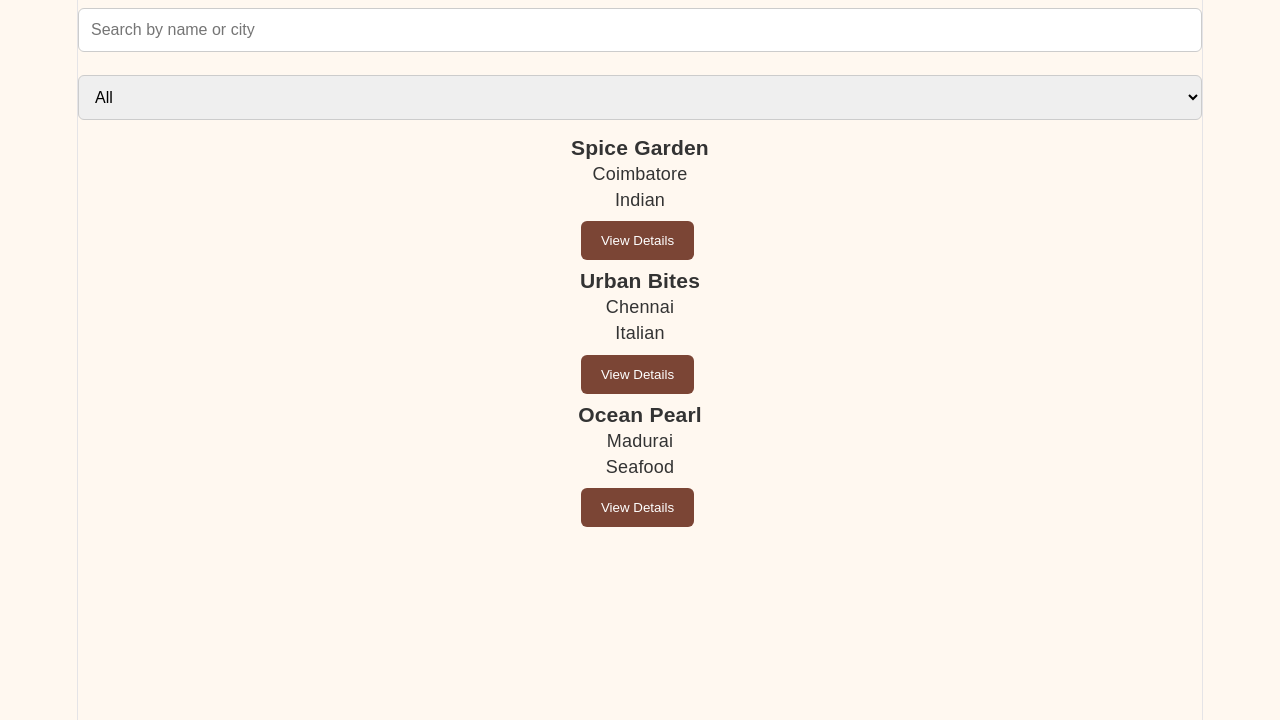
Test case: Experiment 1: Restaurant Reservation Testing › b) Search restaurants by name
Type "Spice" into the field named "Search restaurants" at (640, 30), box left=78, top=8, right=1202, bottom=52
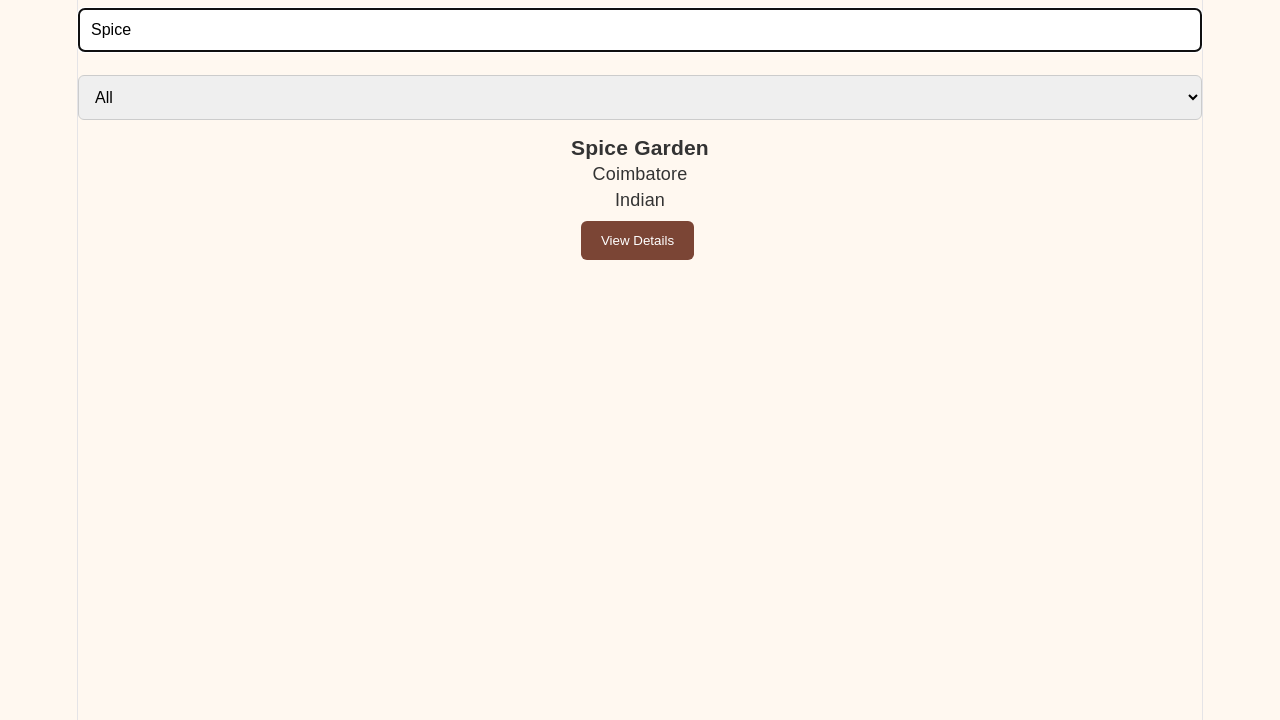
Expected: the heading "Spice Garden" is shown, left=571, top=136, right=709, bottom=159
Now the heading "Urban Bites" is gone
